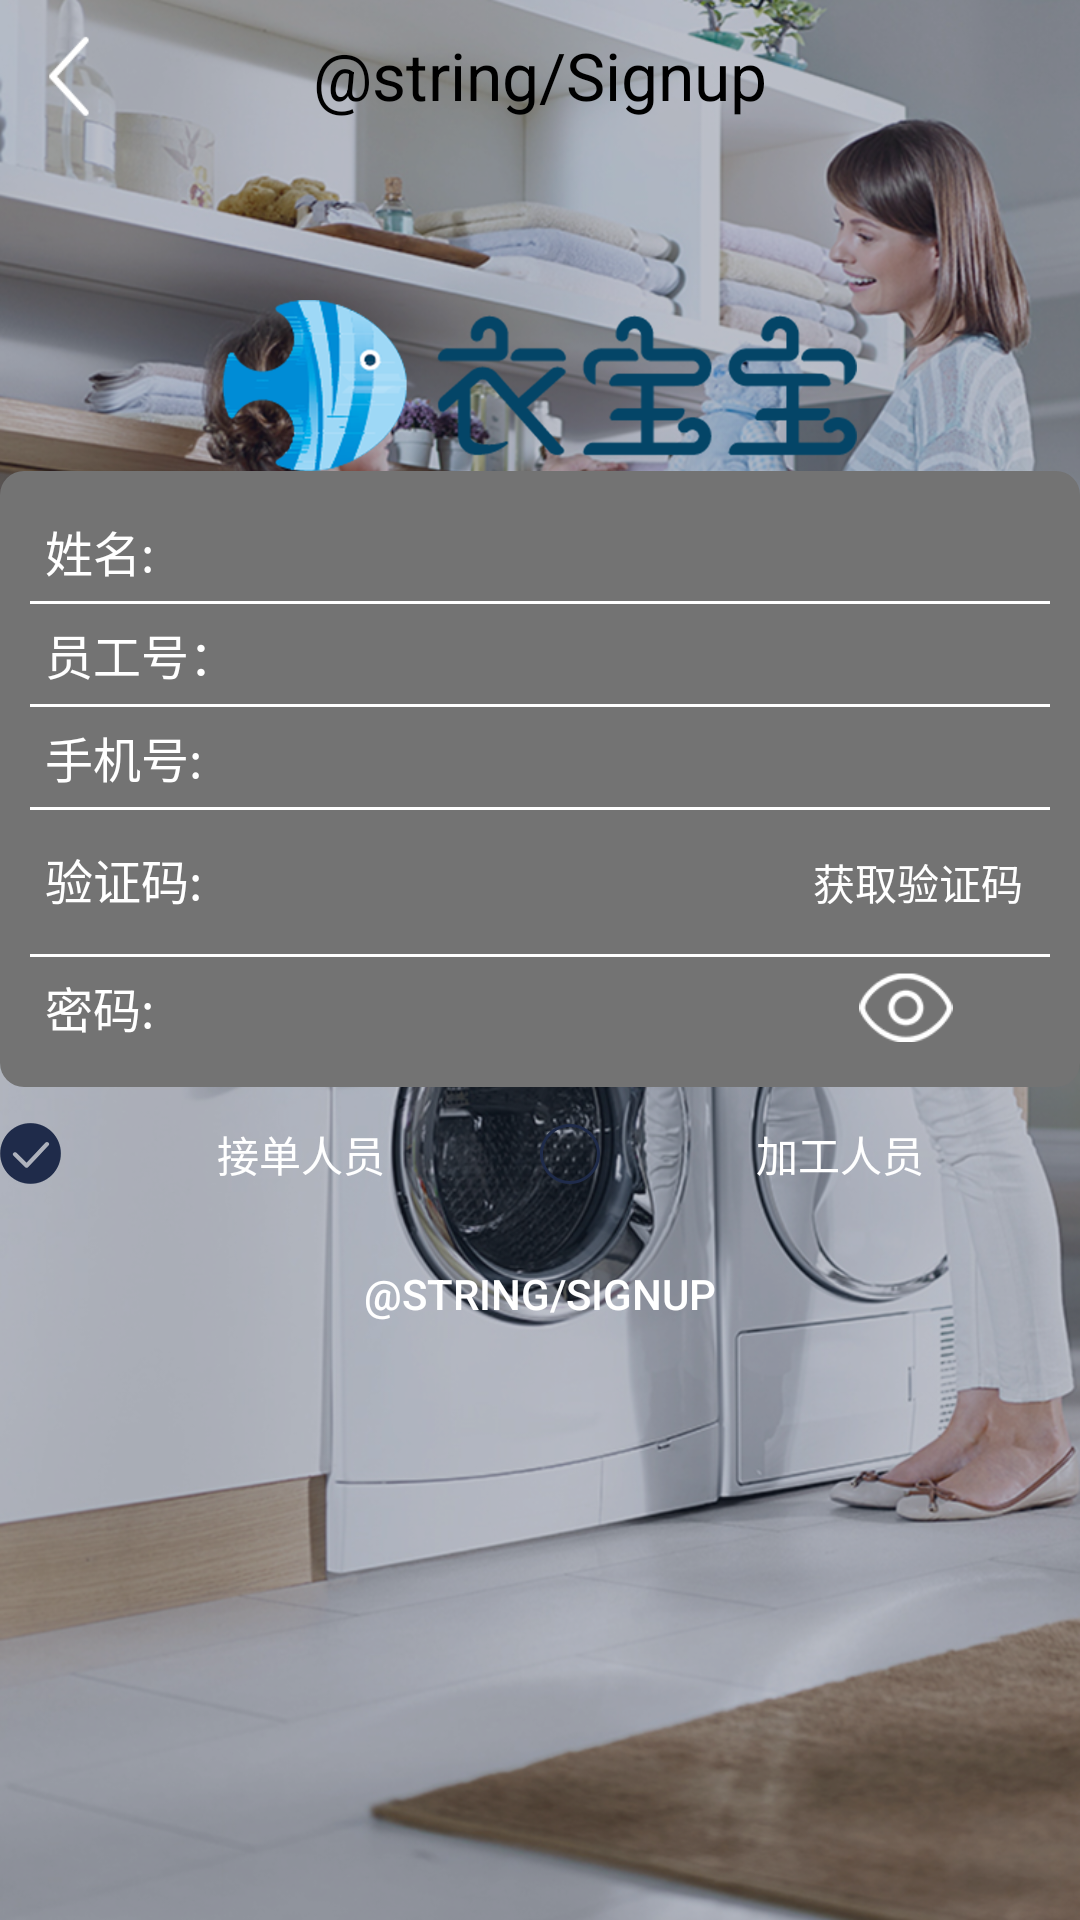

Where icons sit on this 1080w x 1920h app screen, as (x1=x1, y1=y1, x2=x2, y2=y2):
kejian: (x1=859, y1=973, x2=953, y2=1042)
